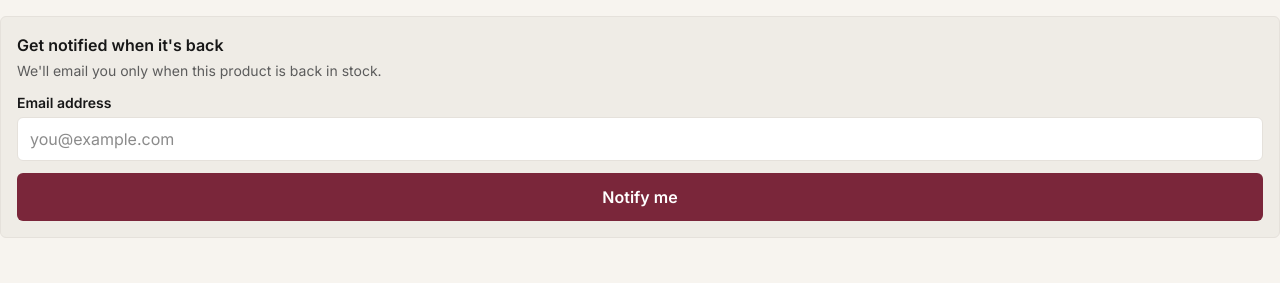
Test: StockAlertForm › shows the checkout message for an empty email without calling the API
The width and height of the screenshot is (1280, 283).
Click the button "Notify me". click: (640, 197)
box: [17, 173, 1263, 221]
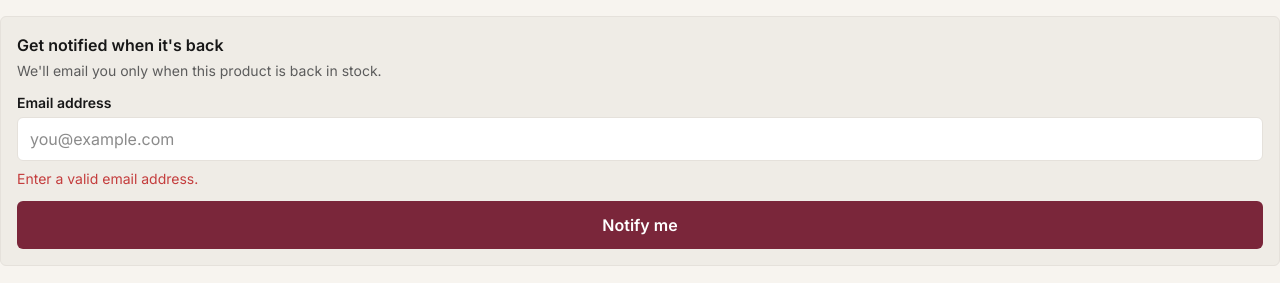
Expected: the message reads "Enter a valid email address.", [17, 170, 198, 187]
